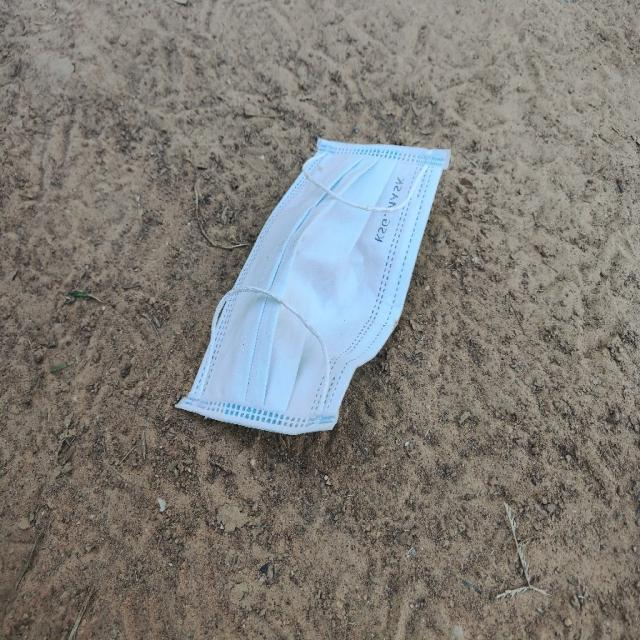non-organic waste: (178, 136, 448, 444)
